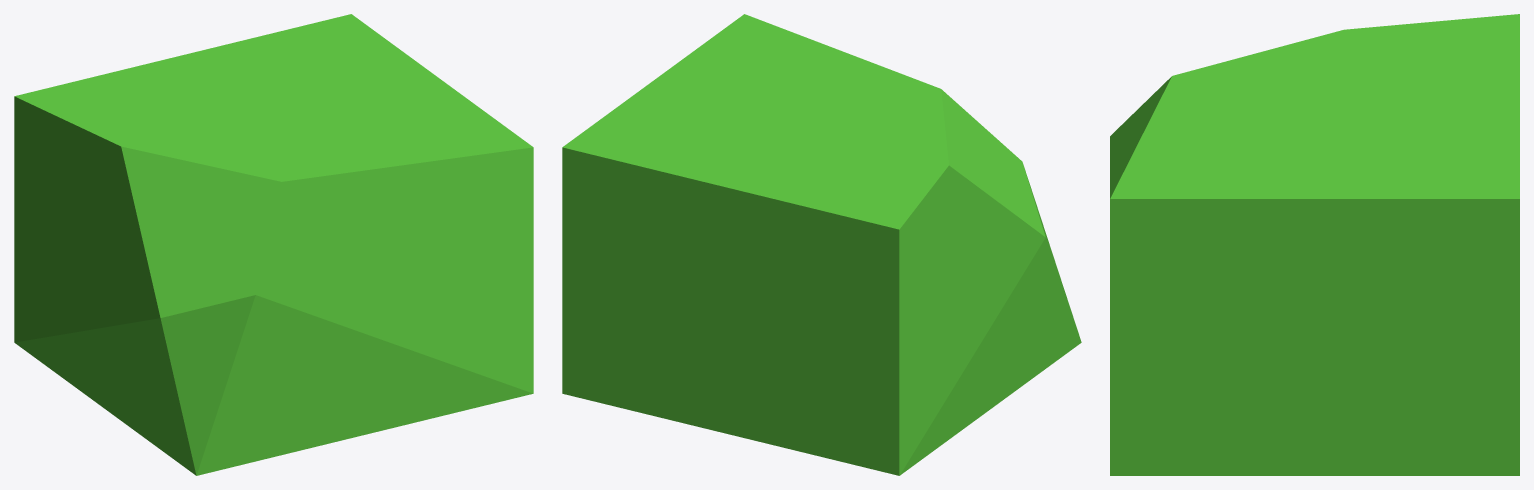
Rendered from Pavement_03.fbx.
The picture shows the model from 3 angles, left to right: view 1: azimuth 30°, elevation 25°; view 2: azimuth 150°, elevation 25°; view 3: azimuth 270°, elevation 25°; orthographic projection. The views are drawn at different scales.
Visible parts, largest first — view 1: Pavement_03; view 2: Pavement_03; view 3: Pavement_03.
Boxes of the visible parts, <box> form: Pavement_03: <box>14,14,533,475</box>; Pavement_03: <box>562,14,1081,475</box>; Pavement_03: <box>1110,14,1519,475</box>.
Size of the model in its own units: 23.25 by 16.23 by 21.76.
